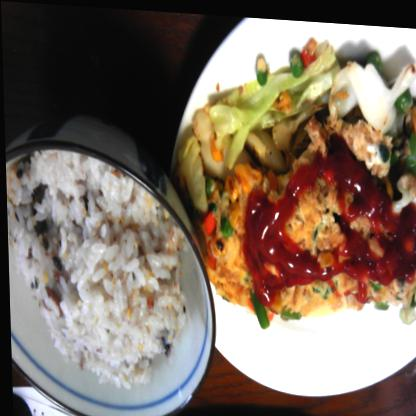fried rice: (204, 63, 415, 330)
mixed rice: (8, 117, 190, 404)
